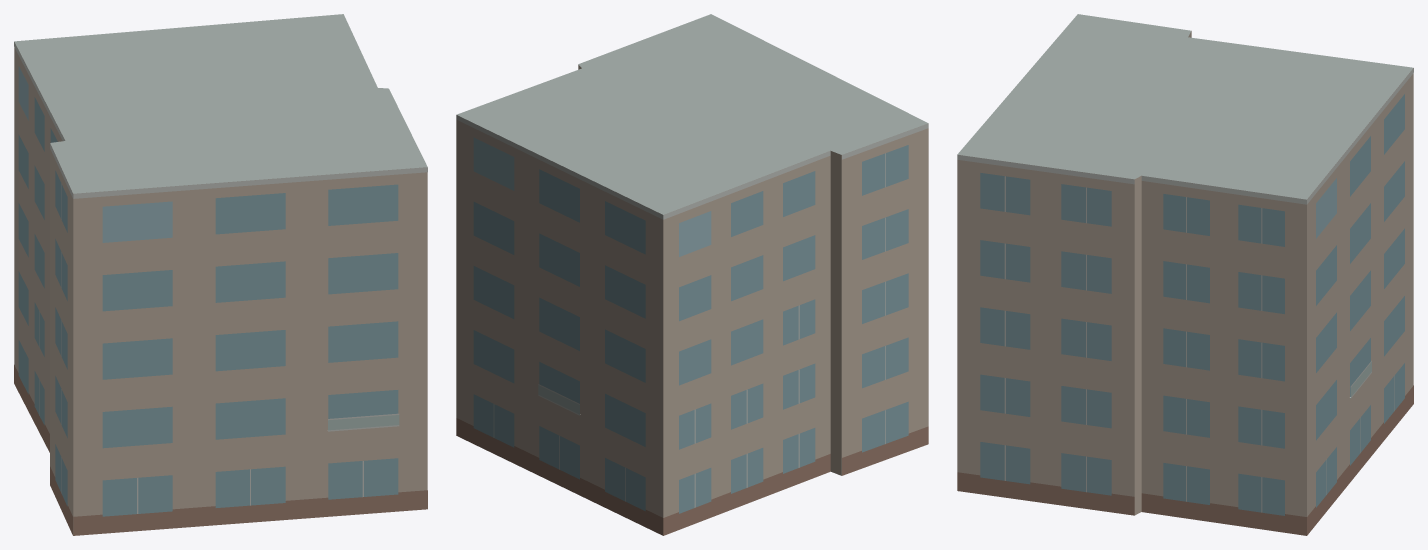
File: survey-upis-32597968.glb
3 views of the same model, side by side, from view 1: azimuth 30°, elevation 25°; view 2: azimuth 150°, elevation 25°; view 3: azimuth 270°, elevation 25° (orthographic). The views are drawn at different scales.
Visible parts, largest first — view 1: survey-upis-32597968.tmp; view 2: survey-upis-32597968.tmp; view 3: survey-upis-32597968.tmp.
Part boxes in pixels (x1,y1,x2,y2): survey-upis-32597968.tmp: (14,14,427,535); survey-upis-32597968.tmp: (456,14,928,535); survey-upis-32597968.tmp: (957,14,1413,535).
Bounding box in the file's own units: 19.19 × 16.2 × 19.95.
